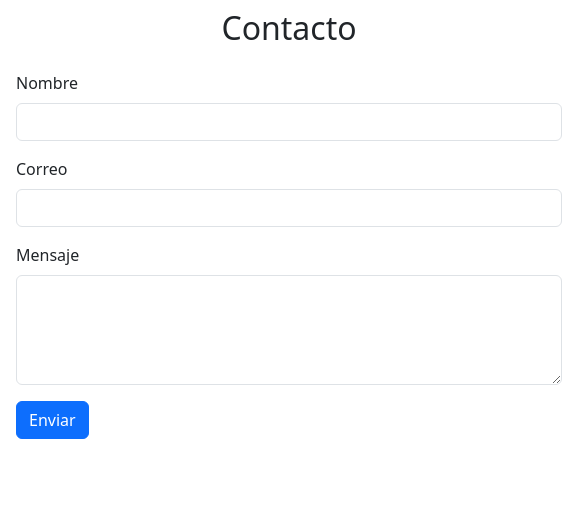
Scenario: Contacto › muestra exito con datos validos
In the field labelled "Nombre": (289, 122) [16,103,562,141], type "Ana"
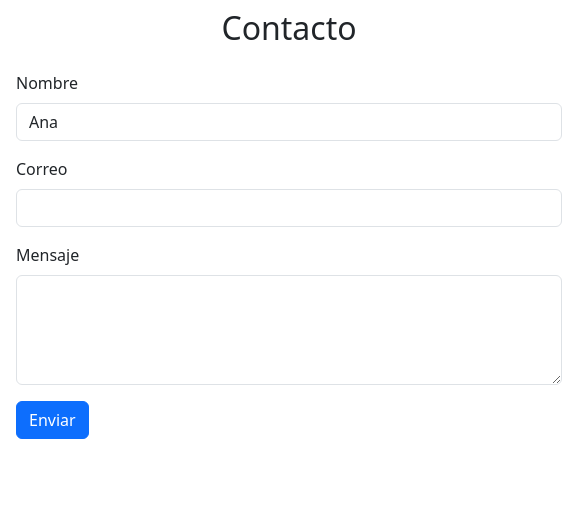
In the field labelled "Correo": (289, 208) [16,189,562,227], type "ana@correo.cl"
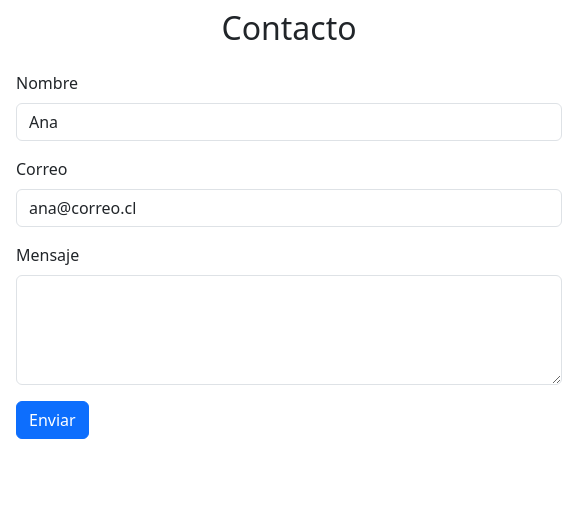
In the text box labelled "Mensaje": (289, 330) [16,275,562,385], type "Hola"
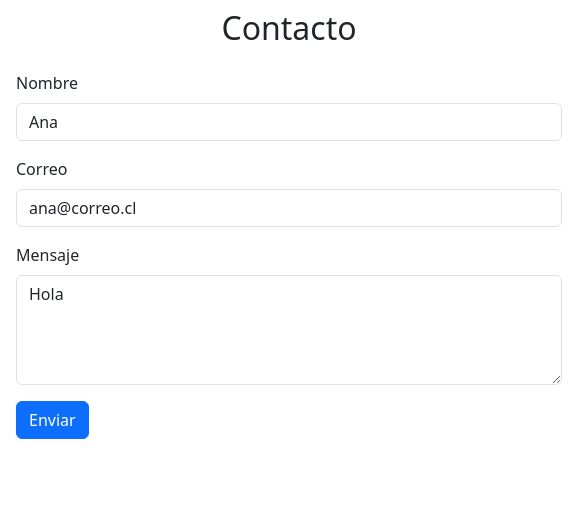
Click the button "Enviar": (52, 420) [16,401,89,439]
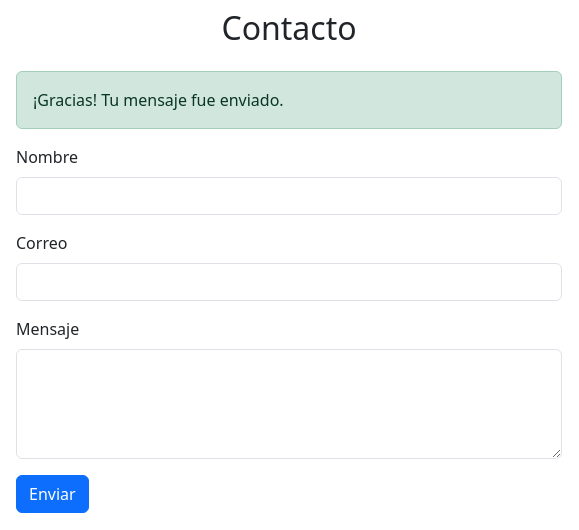
Result: the text "¡Gracias! Tu mensaje fue enviado." is shown at [16,71,562,129]
